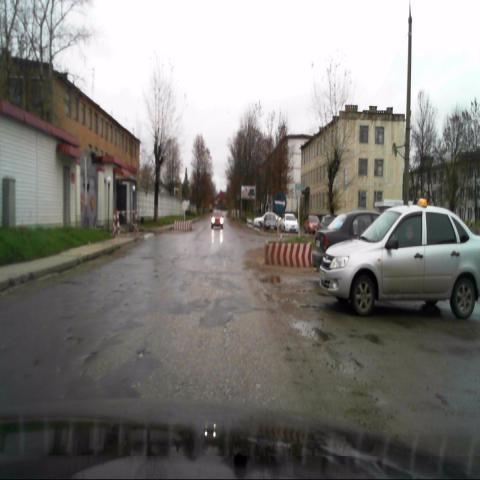4_1_2_1: (274, 192, 286, 213)
5_19_1: (294, 183, 302, 196)
